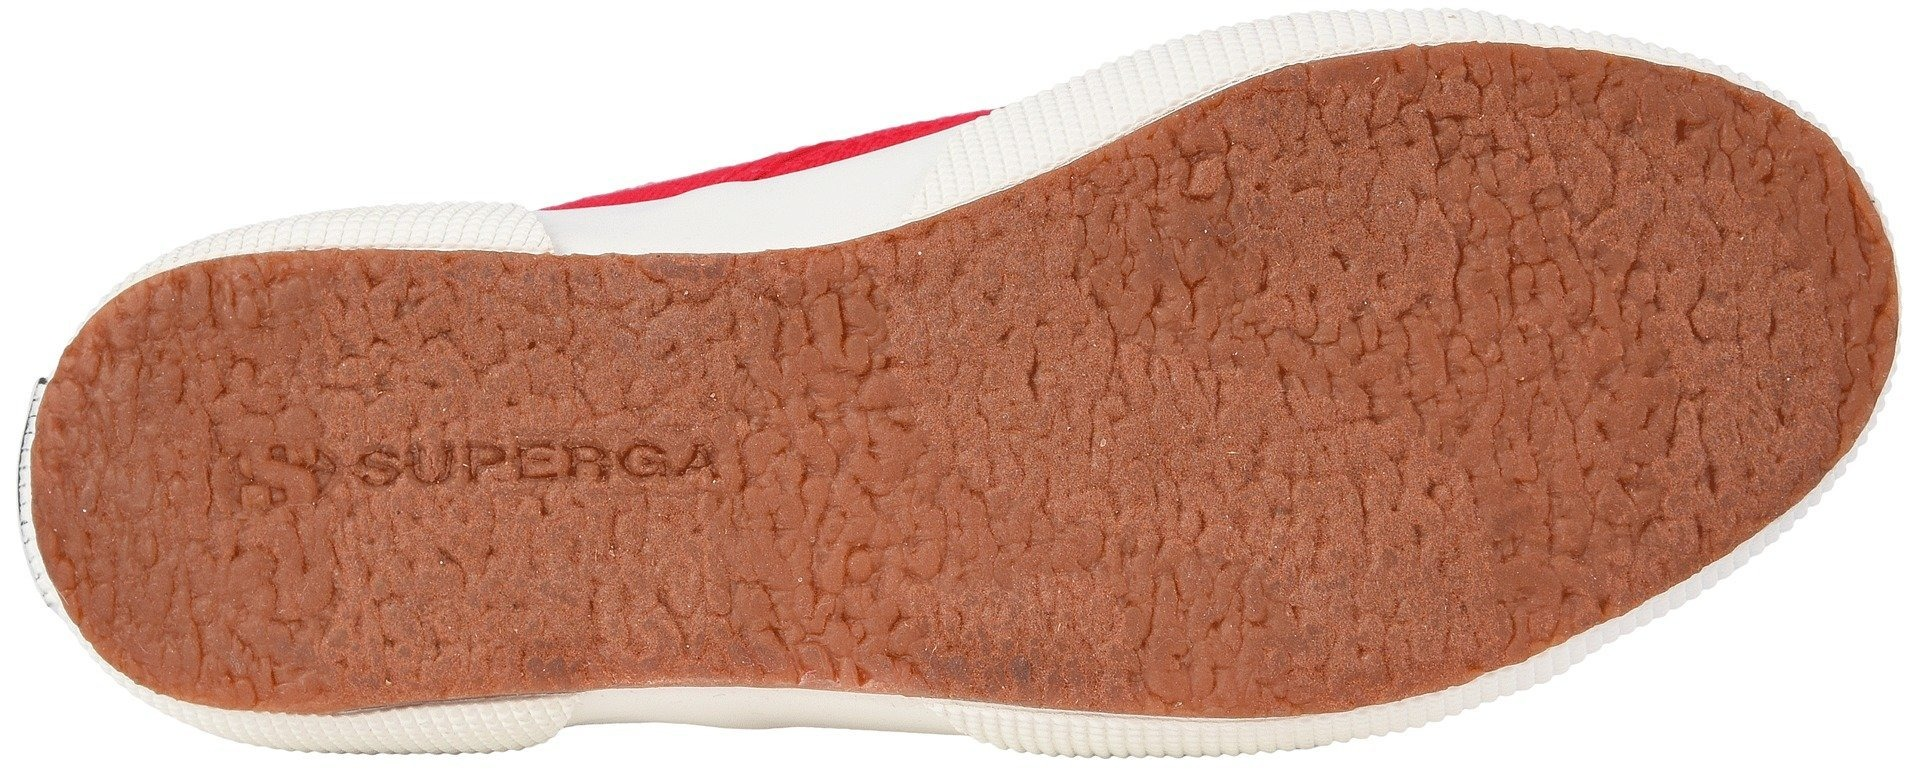other: (769, 275, 1247, 655), (1264, 87, 1671, 477), (148, 511, 731, 668)
text: (215, 432, 761, 505)
